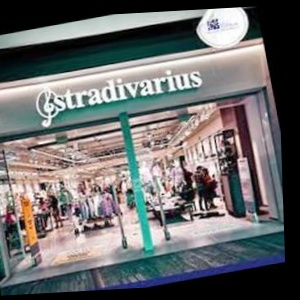stradivarius: (184, 29, 236, 74)
